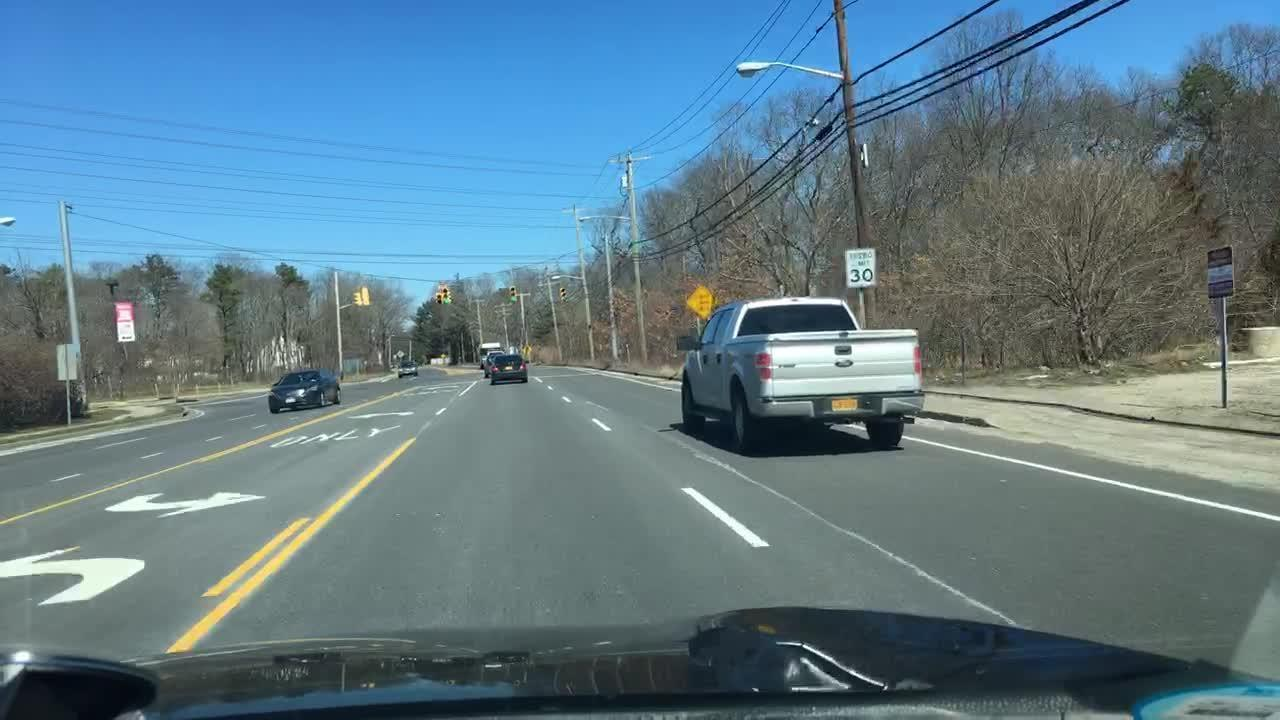ford: (834, 358, 856, 369)
